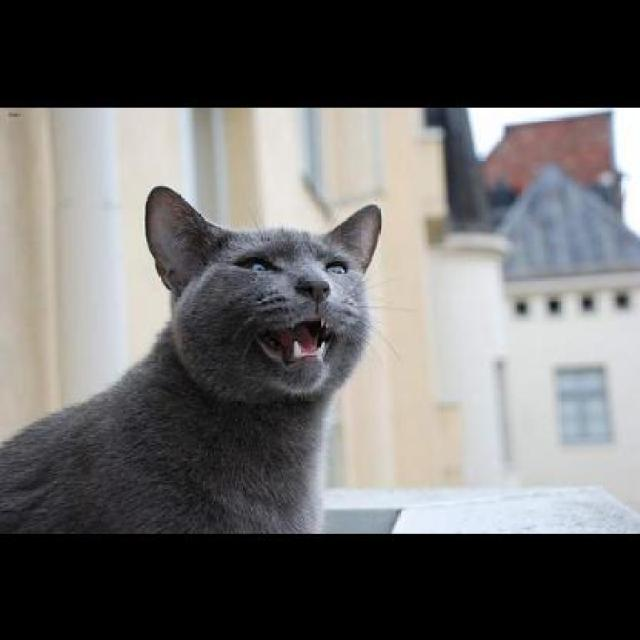unauthorized: (0, 183, 394, 534)
